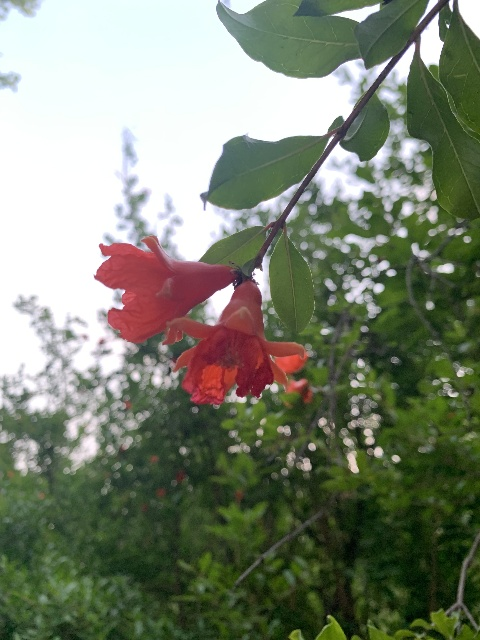flower: (166, 280, 306, 406), (93, 235, 236, 345)
